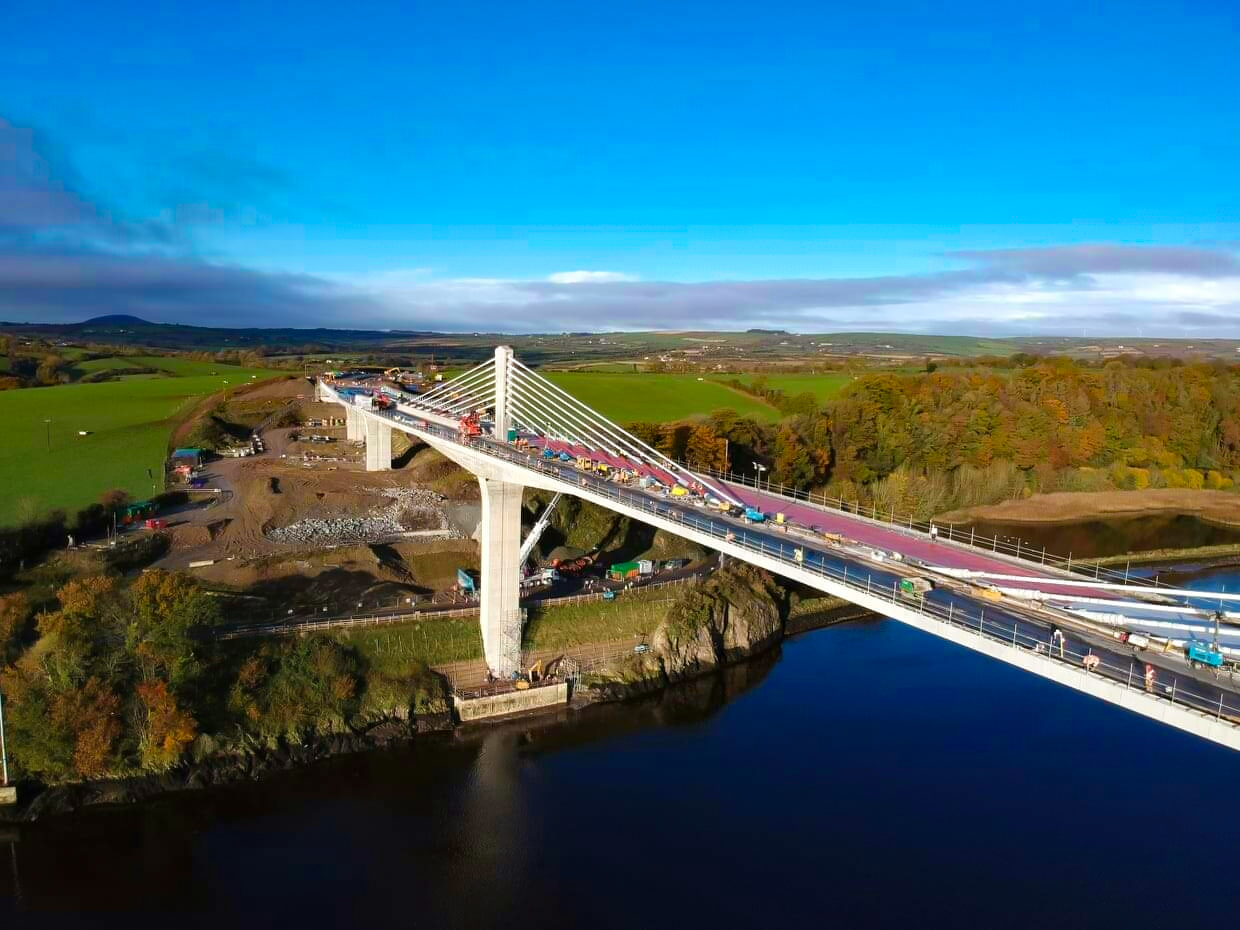bridge: (316, 334, 1240, 753)
